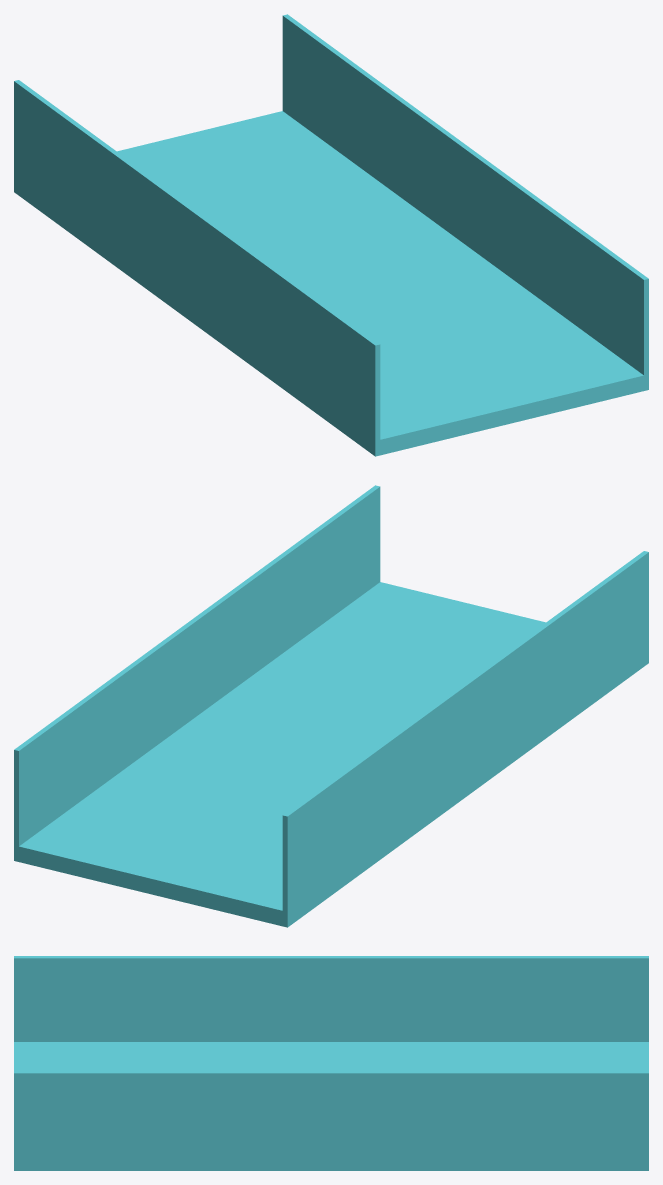
File: climb-6.glb
3 views of the same model, one above another, from view 1: azimuth 30°, elevation 25°; view 2: azimuth 150°, elevation 25°; view 3: azimuth 270°, elevation 25° (orthographic). The views are drawn at different scales.
Parts seen in each view (by area): view 1: climb-6; view 2: climb-6; view 3: climb-6.
Part boxes in pixels (left/top/right/bottom): climb-6: left=14, top=14, right=648, bottom=456; climb-6: left=14, top=485, right=648, bottom=927; climb-6: left=14, top=956, right=648, bottom=1170.
Size of the model in its own units: 3.3 by 1.28 by 7.55.
Materials: 1 (1 with a texture image).
